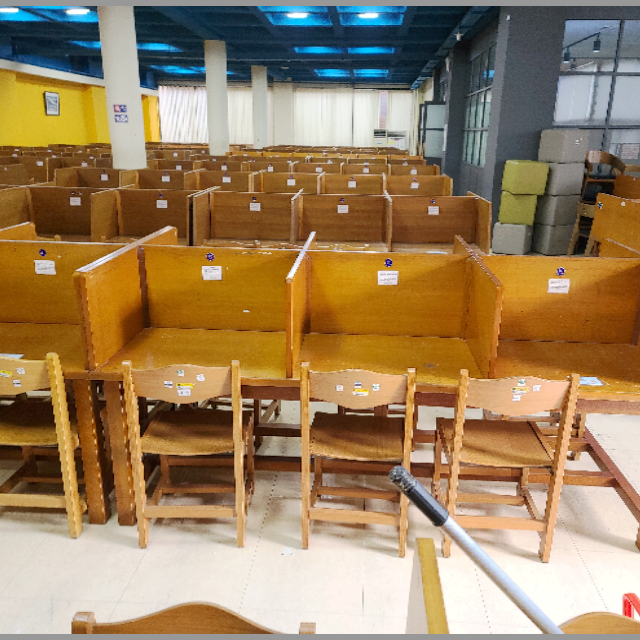empty: (301, 235, 499, 431), (101, 242, 290, 440), (506, 237, 640, 423)
